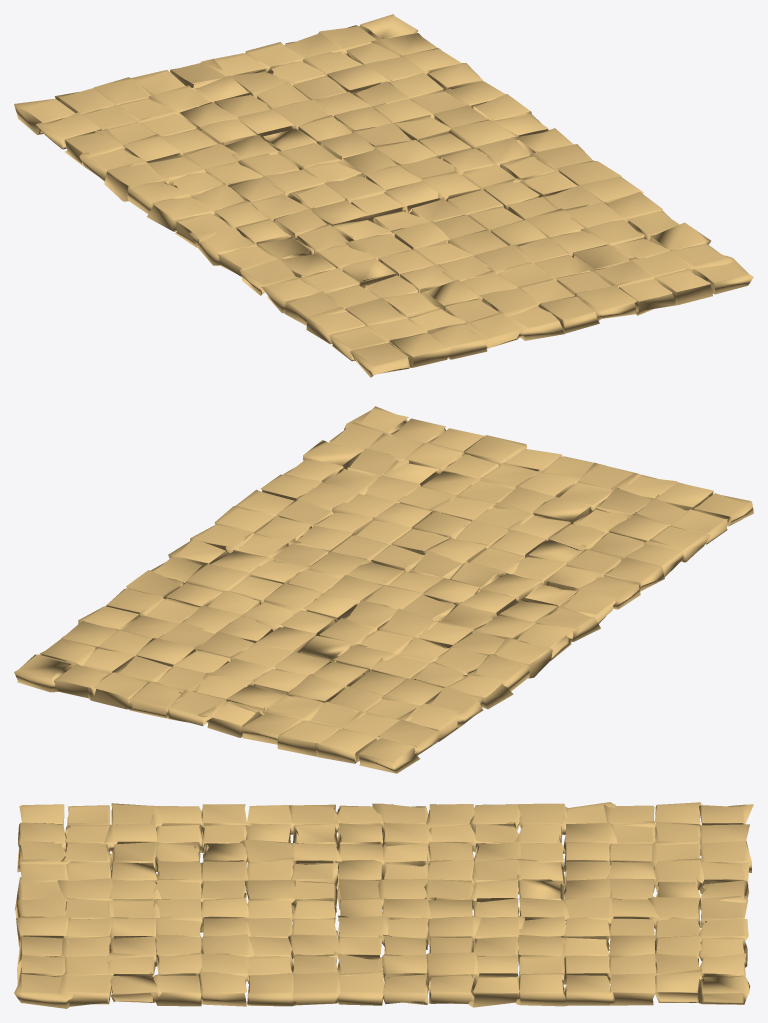
Rendered from egypt_floor.fbx.
3 views of the same model, one above another, from view 1: azimuth 30°, elevation 25°; view 2: azimuth 150°, elevation 25°; view 3: azimuth 270°, elevation 25° (orthographic). The views are drawn at different scales.
Parts seen in each view (by area): view 1: Cube.016; view 2: Cube.016; view 3: Cube.016.
Boxes of the visible parts, x1,y1,x2,y2 form: Cube.016: (14,14,753,377); Cube.016: (14,406,753,773); Cube.016: (14,802,753,1008).
Size of the model in its own units: 438 by 17.97 by 702.
